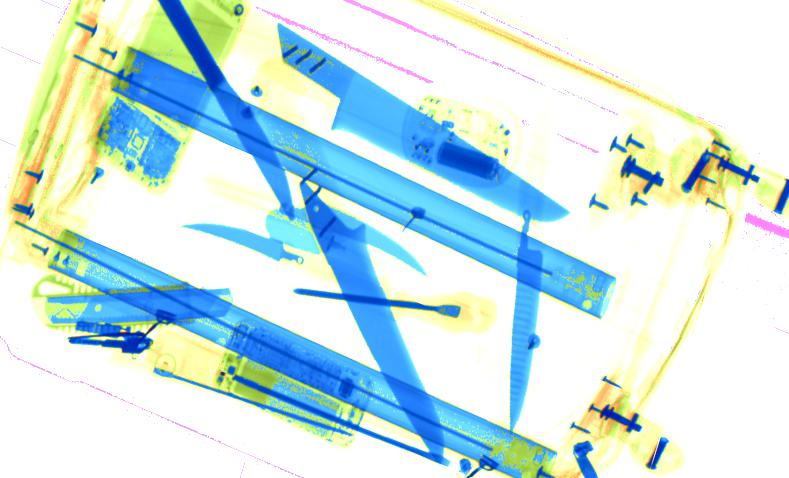Knife: (274, 22, 570, 225), (297, 178, 445, 463), (154, 1, 296, 222), (276, 201, 431, 279), (507, 208, 547, 432), (180, 219, 303, 265), (263, 208, 318, 253)
